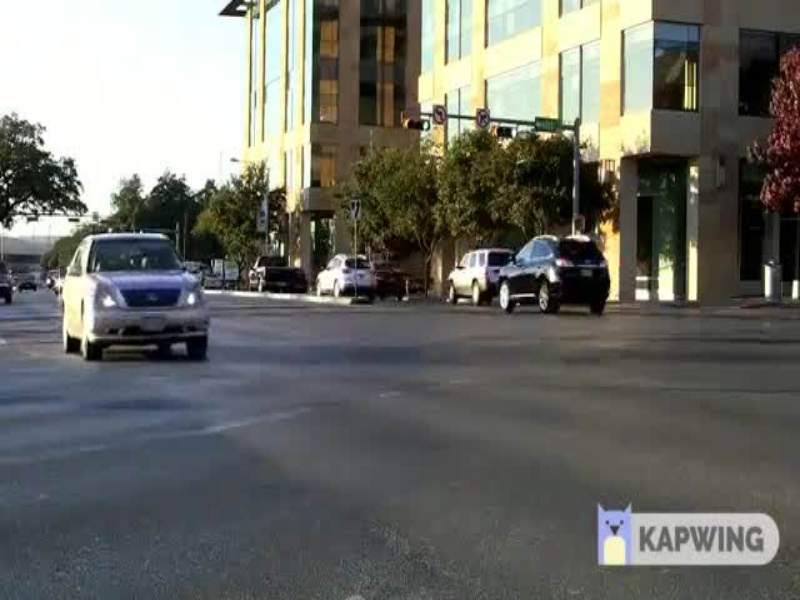car: (51, 226, 211, 382)
suv: (490, 232, 621, 321), (447, 244, 522, 306), (304, 251, 379, 301)
